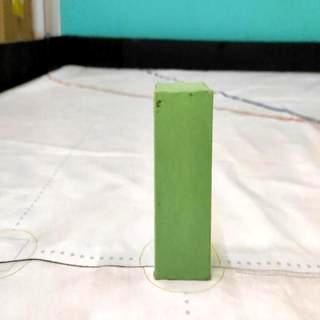greenbox: (154, 83, 212, 280)
